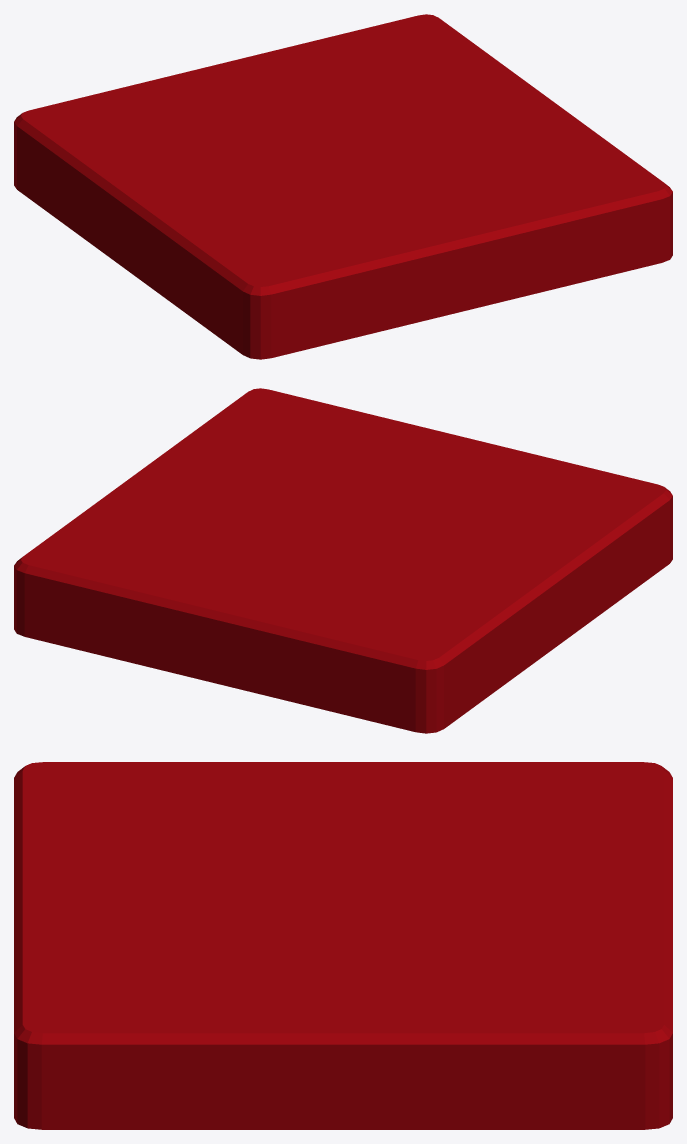
Rendered from InteractModuleBouton.fbx.
The picture shows the model from 3 angles, top to bottom: view 1: azimuth 30°, elevation 25°; view 2: azimuth 150°, elevation 25°; view 3: azimuth 270°, elevation 25°; orthographic projection. The views are drawn at different scales.
Visible parts, largest first — view 1: InteractModuleBouton; view 2: InteractModuleBouton; view 3: InteractModuleBouton.
Boxes of the visible parts, left/top/right/bottom form: InteractModuleBouton: left=14, top=14, right=672, bottom=359; InteractModuleBouton: left=14, top=388, right=672, bottom=733; InteractModuleBouton: left=14, top=762, right=672, bottom=1129.
Size of the model in its own units: 16.64 by 2.6 by 16.64.
